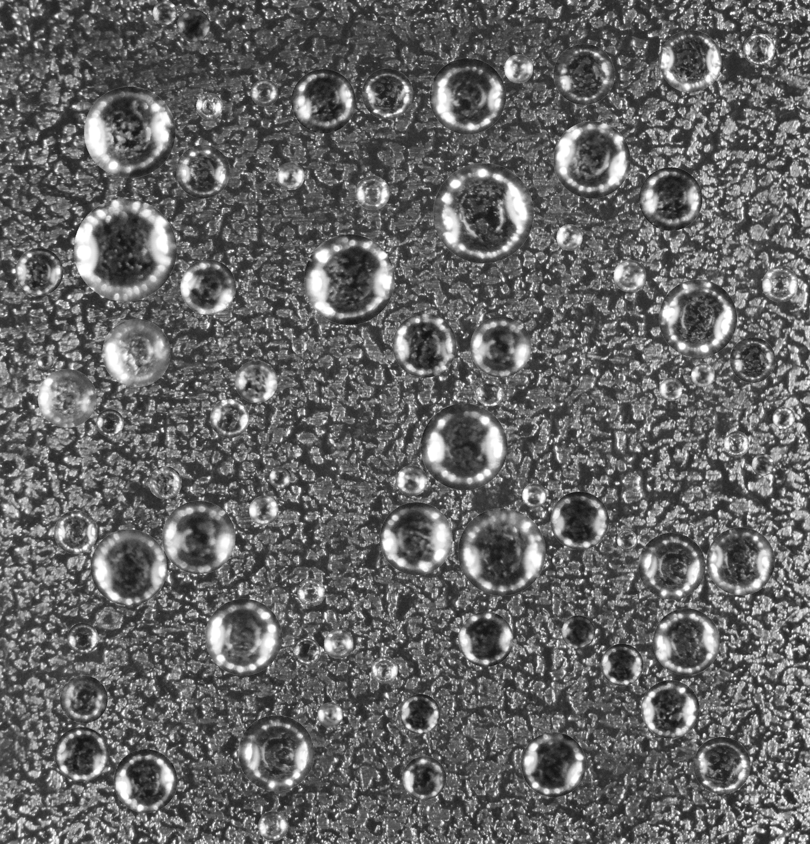Bubble: (73, 198, 176, 301), (433, 163, 533, 263), (84, 86, 175, 177), (304, 234, 394, 324), (420, 403, 507, 490), (458, 508, 545, 595), (659, 279, 737, 357), (553, 121, 630, 198), (205, 598, 281, 675), (429, 58, 505, 134), (238, 715, 314, 791), (90, 529, 166, 605), (162, 500, 235, 574), (379, 502, 452, 575), (706, 527, 774, 595), (102, 319, 170, 387), (638, 532, 705, 599), (653, 608, 719, 675), (521, 732, 586, 797), (392, 313, 456, 377), (291, 69, 355, 133), (113, 749, 177, 812), (639, 167, 702, 230), (659, 30, 721, 92), (470, 316, 531, 377), (553, 43, 614, 104), (37, 369, 96, 427), (641, 680, 699, 738), (550, 491, 608, 549), (693, 737, 750, 794), (458, 611, 513, 666), (180, 259, 235, 314), (54, 727, 108, 781), (176, 144, 229, 198), (362, 68, 412, 119), (59, 675, 107, 723), (15, 248, 63, 295), (730, 337, 775, 382), (54, 510, 97, 554), (402, 756, 446, 799), (601, 643, 643, 686), (235, 360, 277, 402), (400, 694, 440, 734), (210, 398, 249, 437), (762, 266, 798, 302), (561, 615, 595, 648), (355, 176, 389, 209), (613, 259, 646, 292), (148, 466, 181, 499), (177, 9, 210, 42), (743, 33, 775, 65), (396, 465, 427, 496), (67, 622, 98, 653), (258, 811, 288, 841), (249, 495, 278, 525), (324, 629, 353, 658), (504, 54, 533, 83), (297, 578, 325, 606), (276, 162, 304, 189), (476, 378, 503, 406), (251, 79, 278, 106), (96, 409, 123, 436), (293, 638, 320, 665), (371, 656, 397, 683), (196, 92, 222, 119), (556, 224, 582, 250), (724, 431, 749, 456), (317, 702, 342, 727), (152, 0, 177, 24), (522, 483, 546, 507), (659, 377, 682, 401), (691, 363, 714, 386), (772, 407, 795, 429), (269, 466, 291, 488), (752, 453, 774, 475), (617, 530, 637, 550), (37, 353, 53, 369), (291, 338, 306, 353), (43, 630, 54, 641), (552, 555, 563, 566)
